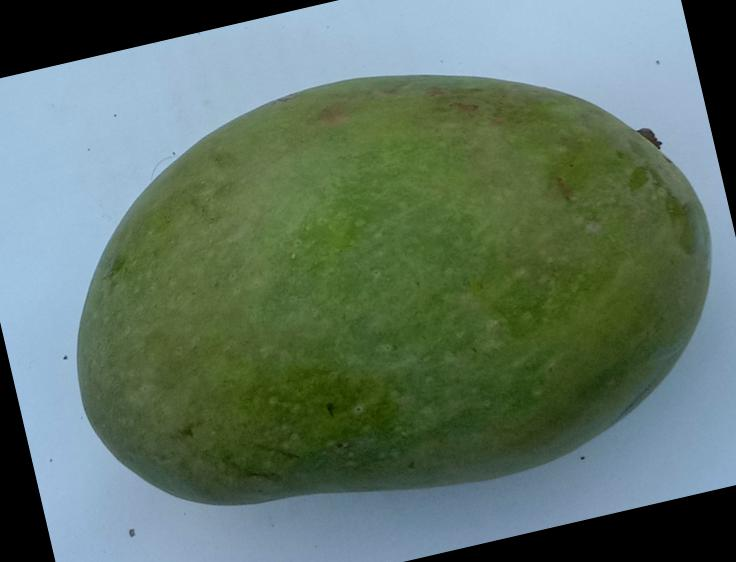Mango Unripe: (6, 0, 736, 562)
